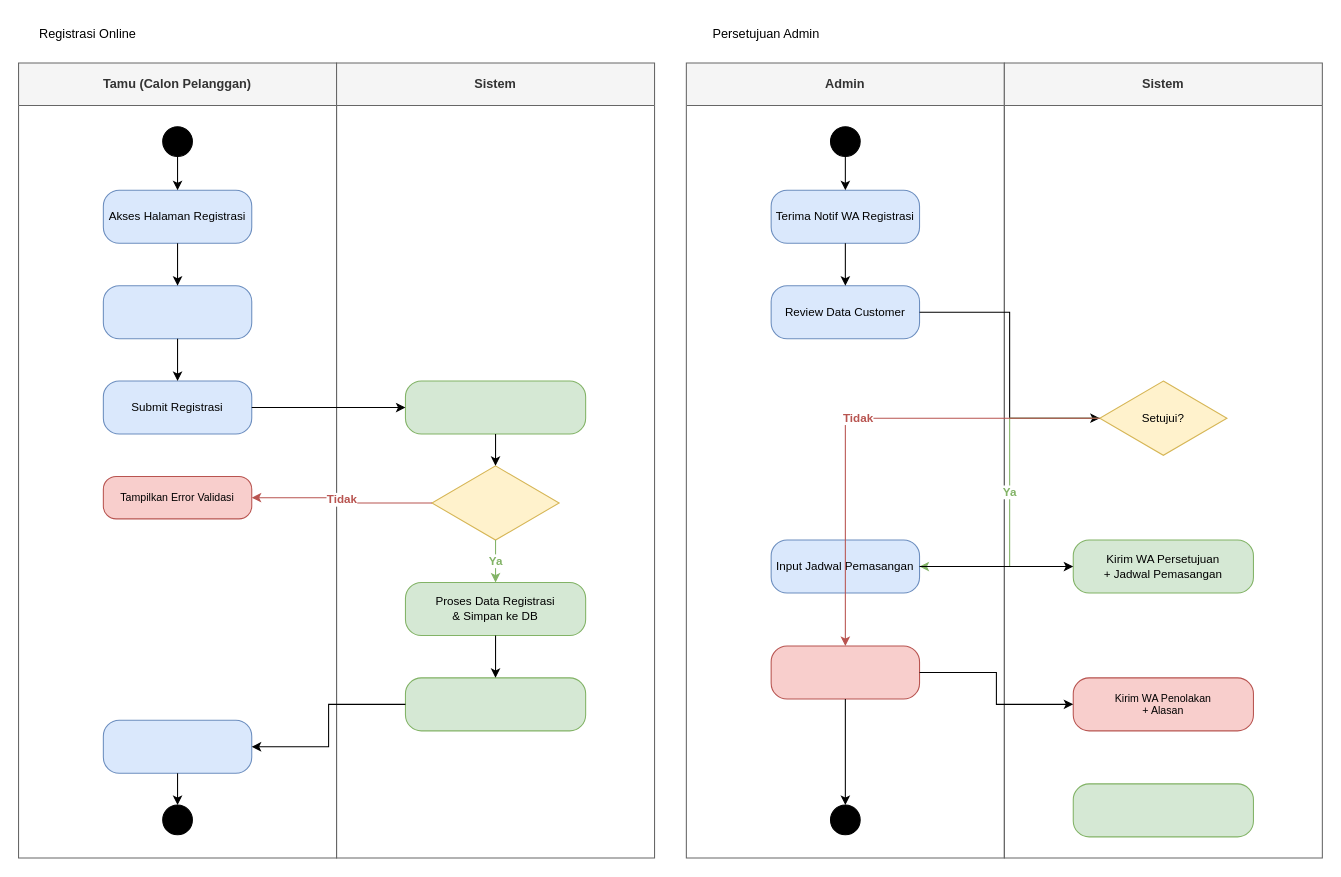
Image size: 1341x877. Some labels were removed from this diagram. The box of each missing label's shape, as (x1, y1, x2, y2) in pixels:
Data Valid?: (431, 465, 559, 540)
Input Alasan Penolakan: (770, 645, 920, 699)
Isi Form + No. WhatsApp: (102, 285, 252, 339)
Kirim Notif WA ke Admin: (404, 677, 586, 731)
Log Aktivitas Admin: (1072, 783, 1253, 837)
Terima Notifikasi via WhatsApp: (102, 719, 252, 773)
Validasi Data: (404, 380, 586, 434)
